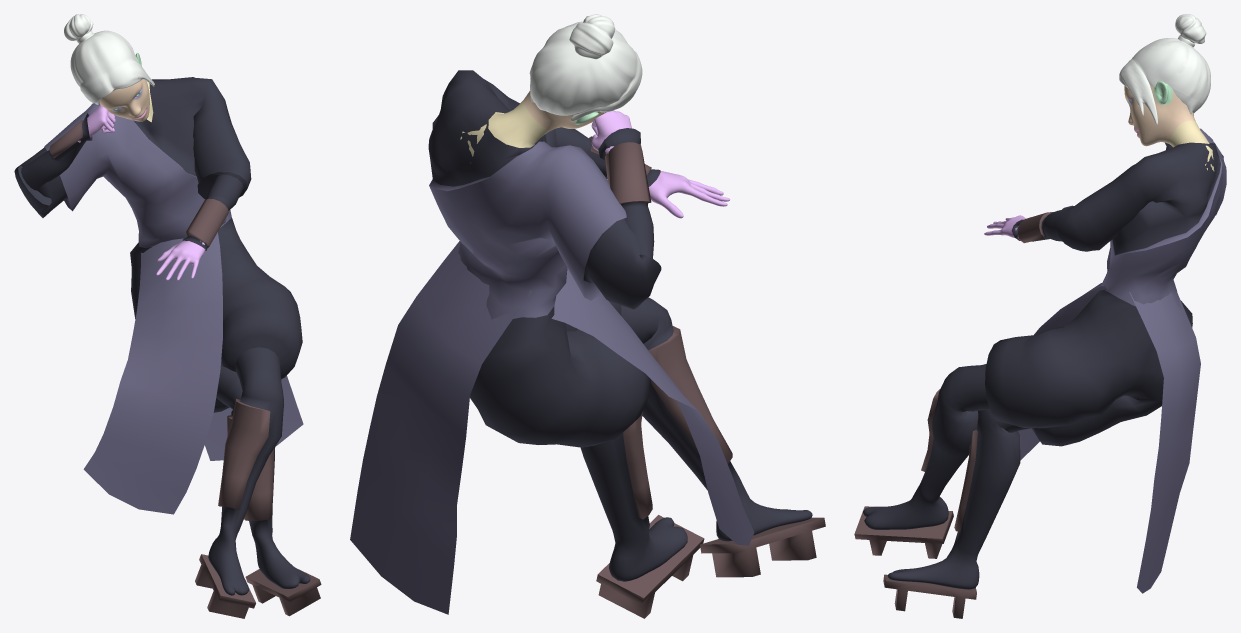
The model's file is BaseRig_Ocha.fbx.
3 views of the same model, side by side, from view 1: azimuth 30°, elevation 25°; view 2: azimuth 150°, elevation 25°; view 3: azimuth 270°, elevation 25° (orthographic). The views are drawn at different scales.
Visible parts, largest first — view 1: Ocha_Basemesh; view 2: Ocha_Basemesh; view 3: Ocha_Basemesh.
Part boxes in pixels (x1,y1,x2,y2): Ocha_Basemesh: (14,14,321,618); Ocha_Basemesh: (350,14,825,618); Ocha_Basemesh: (854,14,1226,618).
Bounding box in the file's own units: 0.7317 × 1.45 × 0.8713.
